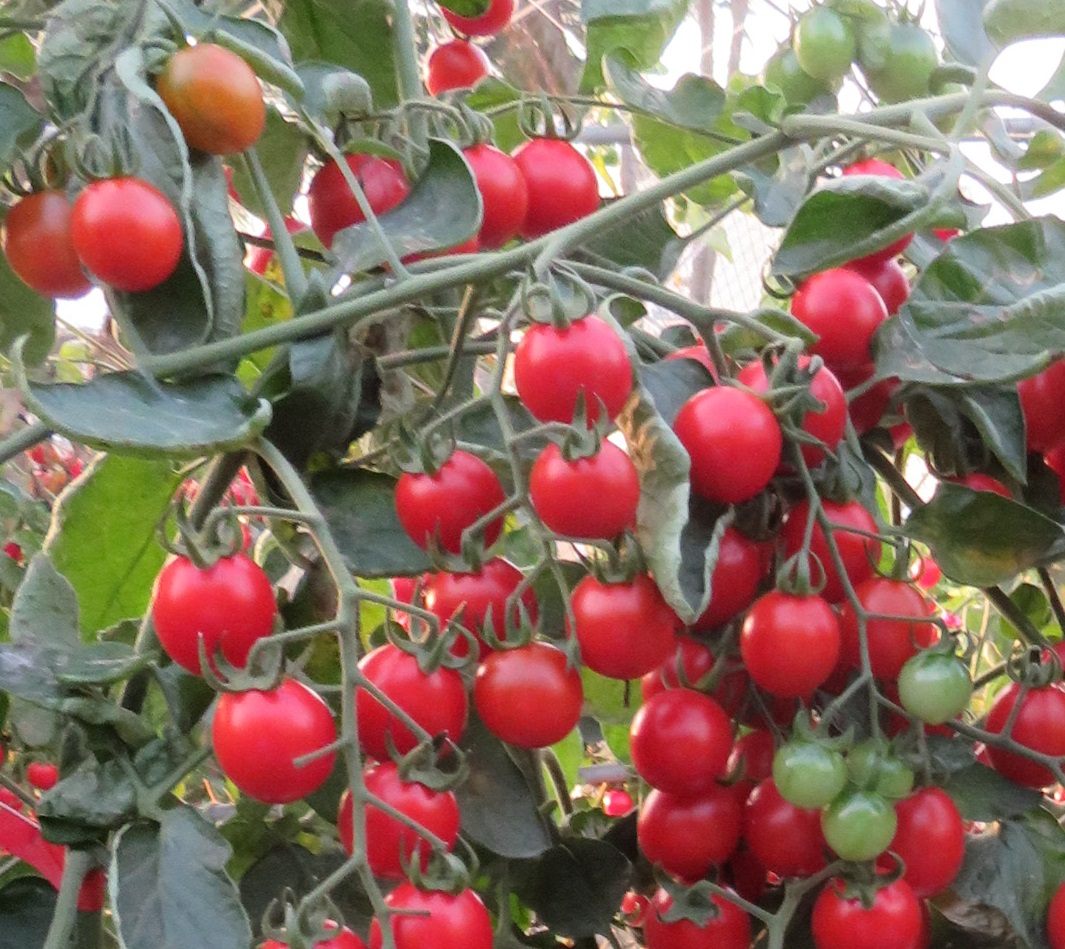green: (893, 647, 980, 734), (863, 18, 941, 115), (768, 739, 850, 815), (820, 798, 897, 868), (789, 6, 853, 84), (973, 1, 1063, 51)
orange: (59, 175, 183, 288), (154, 39, 267, 152), (1, 179, 85, 302)
red: (141, 545, 287, 684), (203, 679, 345, 801), (335, 760, 459, 883), (357, 641, 472, 767), (564, 568, 681, 684), (736, 351, 853, 467), (514, 321, 640, 427), (397, 446, 512, 556), (526, 437, 643, 545), (680, 380, 780, 505), (414, 561, 542, 657), (470, 642, 585, 745), (630, 687, 736, 797), (742, 588, 841, 699), (782, 264, 888, 366), (783, 495, 882, 602), (629, 782, 739, 877), (842, 573, 931, 677), (306, 152, 406, 242), (986, 682, 1065, 795), (737, 782, 822, 883), (900, 789, 972, 905), (377, 882, 494, 949), (813, 877, 921, 949), (638, 886, 759, 949), (528, 133, 599, 235), (467, 141, 532, 246), (1009, 349, 1065, 456), (420, 41, 498, 97), (435, 1, 517, 39)
